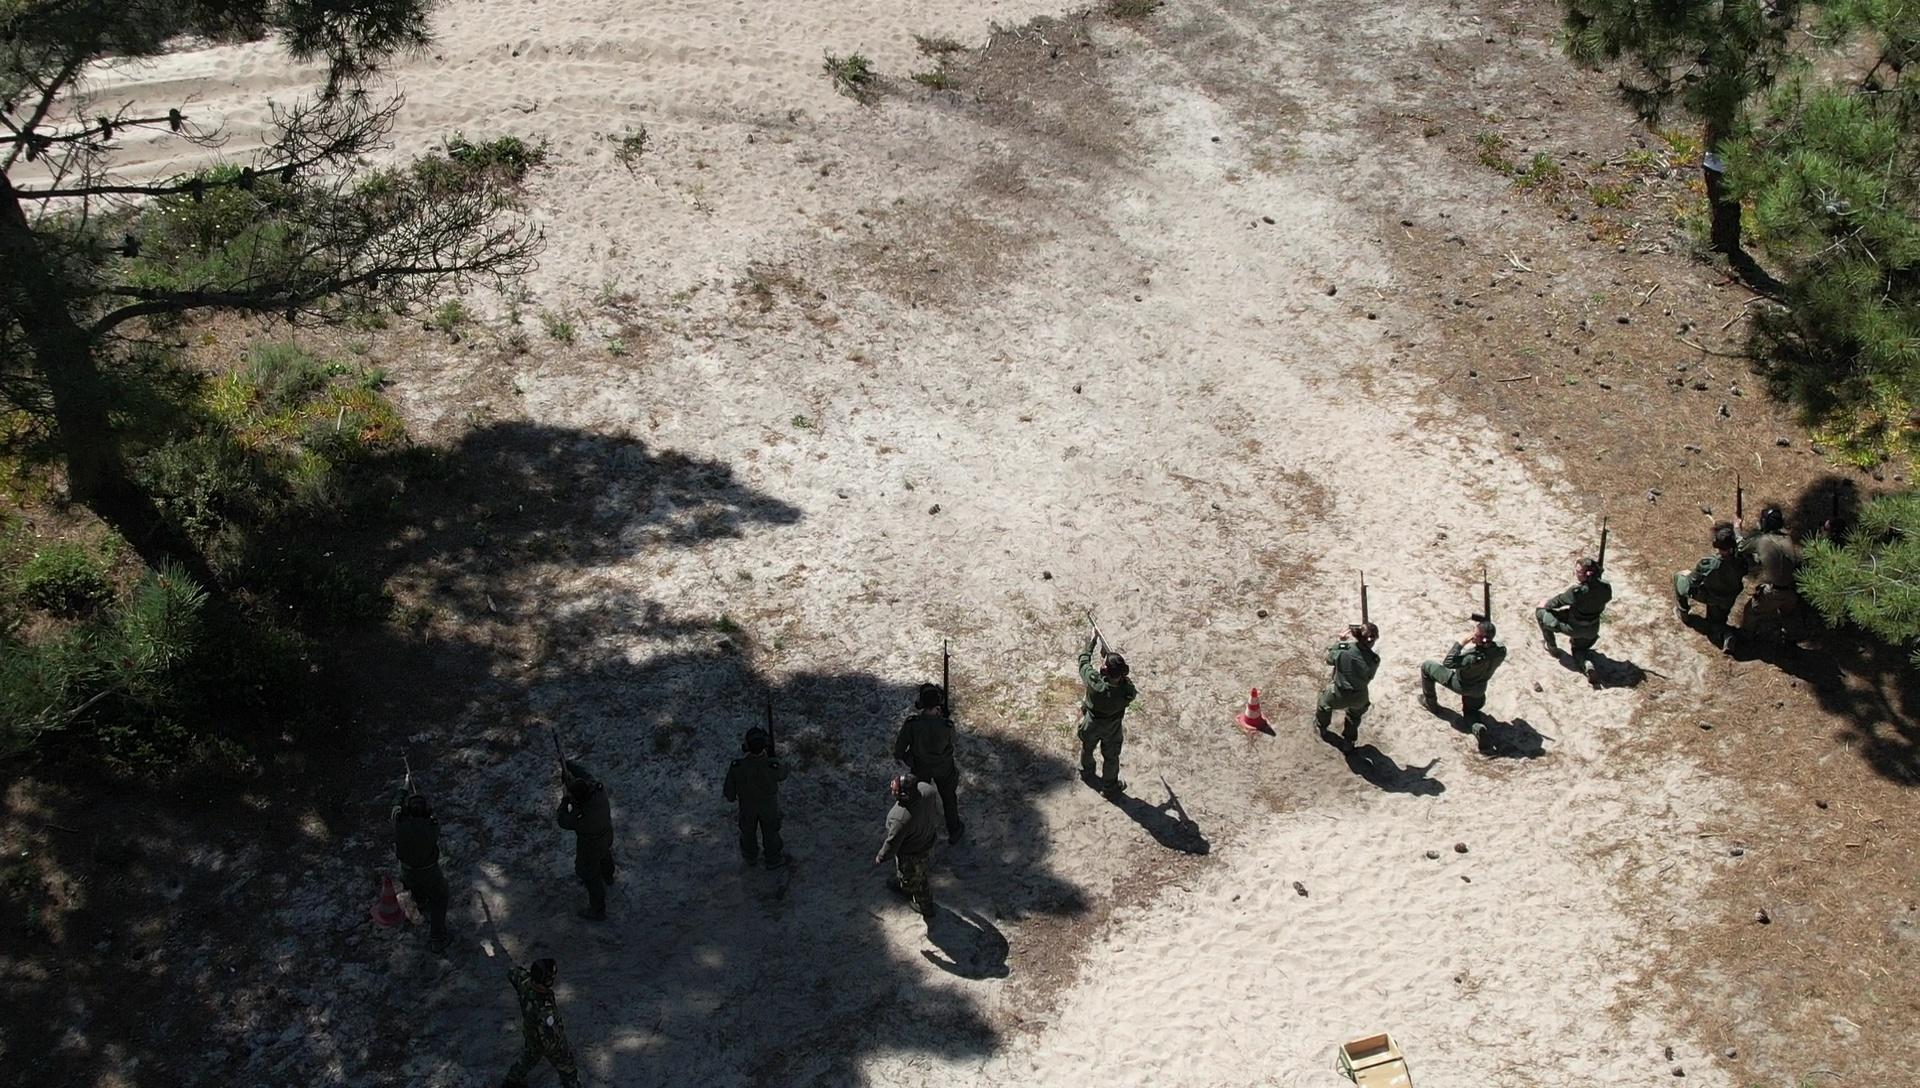Soldier: (371, 731, 468, 971), (1531, 506, 1640, 713), (539, 727, 640, 946), (1305, 586, 1404, 798), (1059, 607, 1150, 830), (872, 741, 981, 914), (1422, 568, 1516, 760), (723, 684, 802, 910), (895, 642, 975, 794), (1705, 504, 1768, 673), (1737, 499, 1812, 628)
